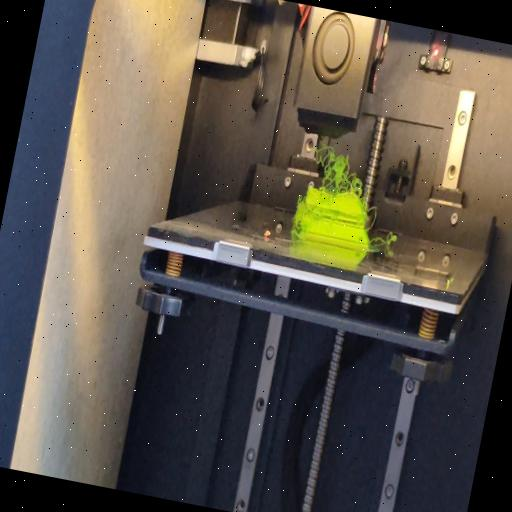spaghetti: (311, 138, 369, 196), (372, 230, 400, 248), (364, 202, 380, 230), (288, 225, 301, 242)
